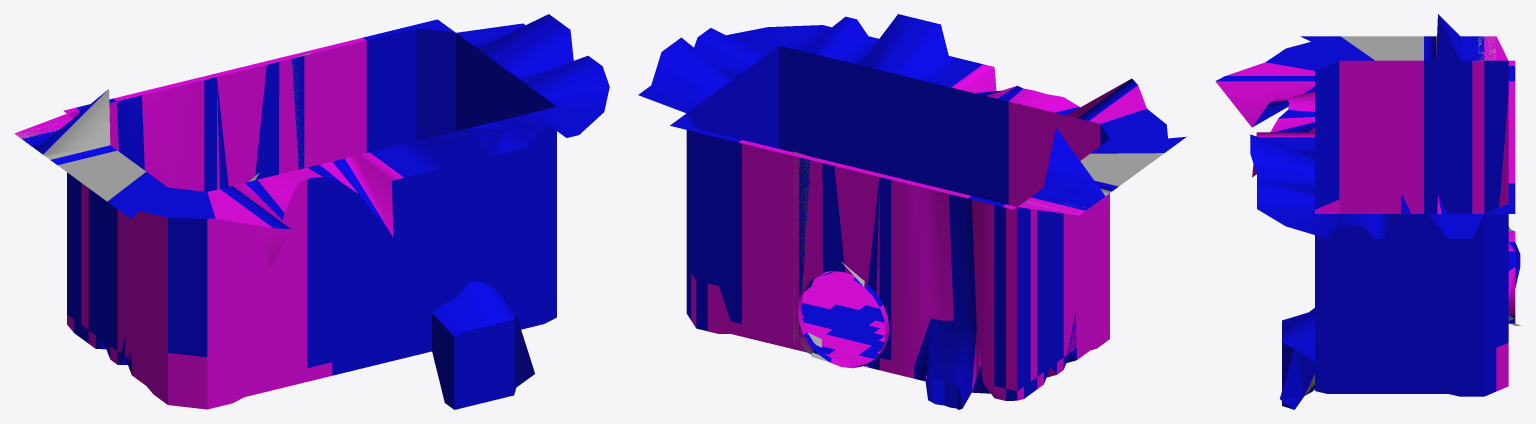
The model's file is arenaNEWNEW.fbx.
3 views of the same model, side by side, from view 1: azimuth 30°, elevation 25°; view 2: azimuth 150°, elevation 25°; view 3: azimuth 270°, elevation 25° (orthographic). The views are drawn at different scales.
Visible parts, largest first — view 1: newArena; view 2: newArena; view 3: newArena.
Boxes of the visible parts, box(x1,y1,x2,y2) form: newArena: box(14, 14, 609, 409); newArena: box(638, 14, 1186, 409); newArena: box(1215, 14, 1520, 409).
Size of the model in its own units: 79.25 by 48.2 by 50.63.
